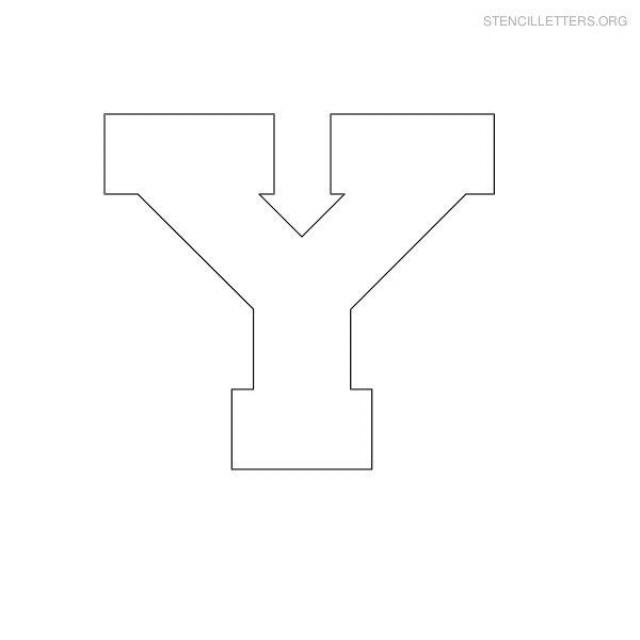Y: (53, 82, 543, 511)
